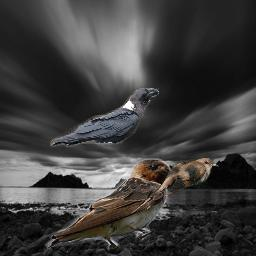Crow: (50, 88, 159, 147)
Cuckoo: (131, 157, 219, 214)
Swallow: (44, 157, 177, 254)
